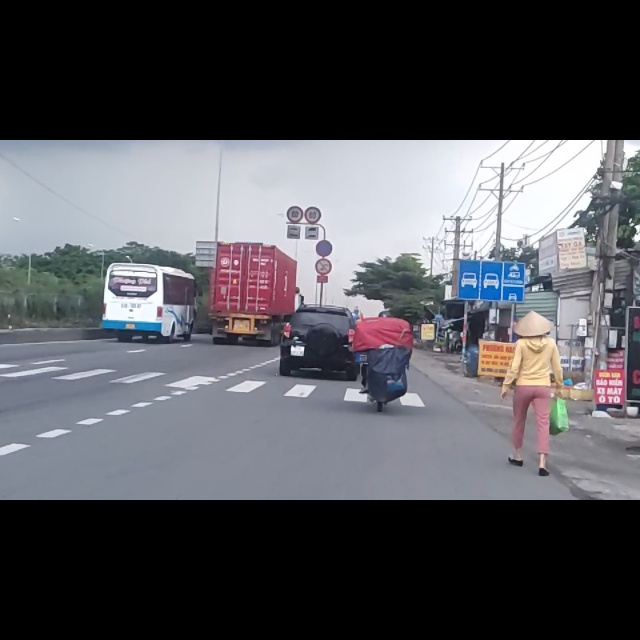bien_cam: (459, 211, 524, 289), (315, 178, 333, 207), (287, 117, 303, 147), (305, 119, 321, 148), (315, 210, 331, 239)
